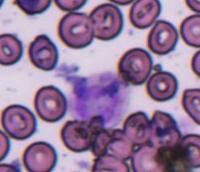N: (71, 69, 129, 128)
